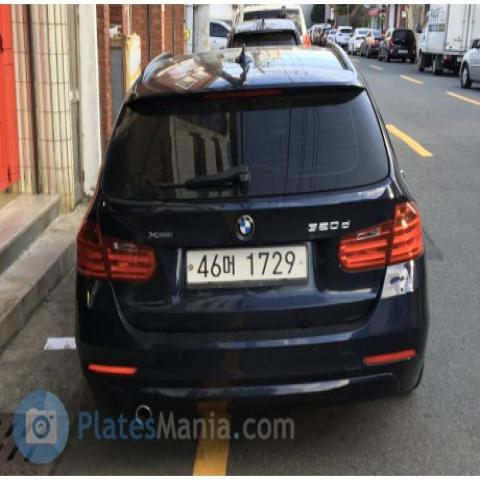LP: (172, 237, 318, 295)
